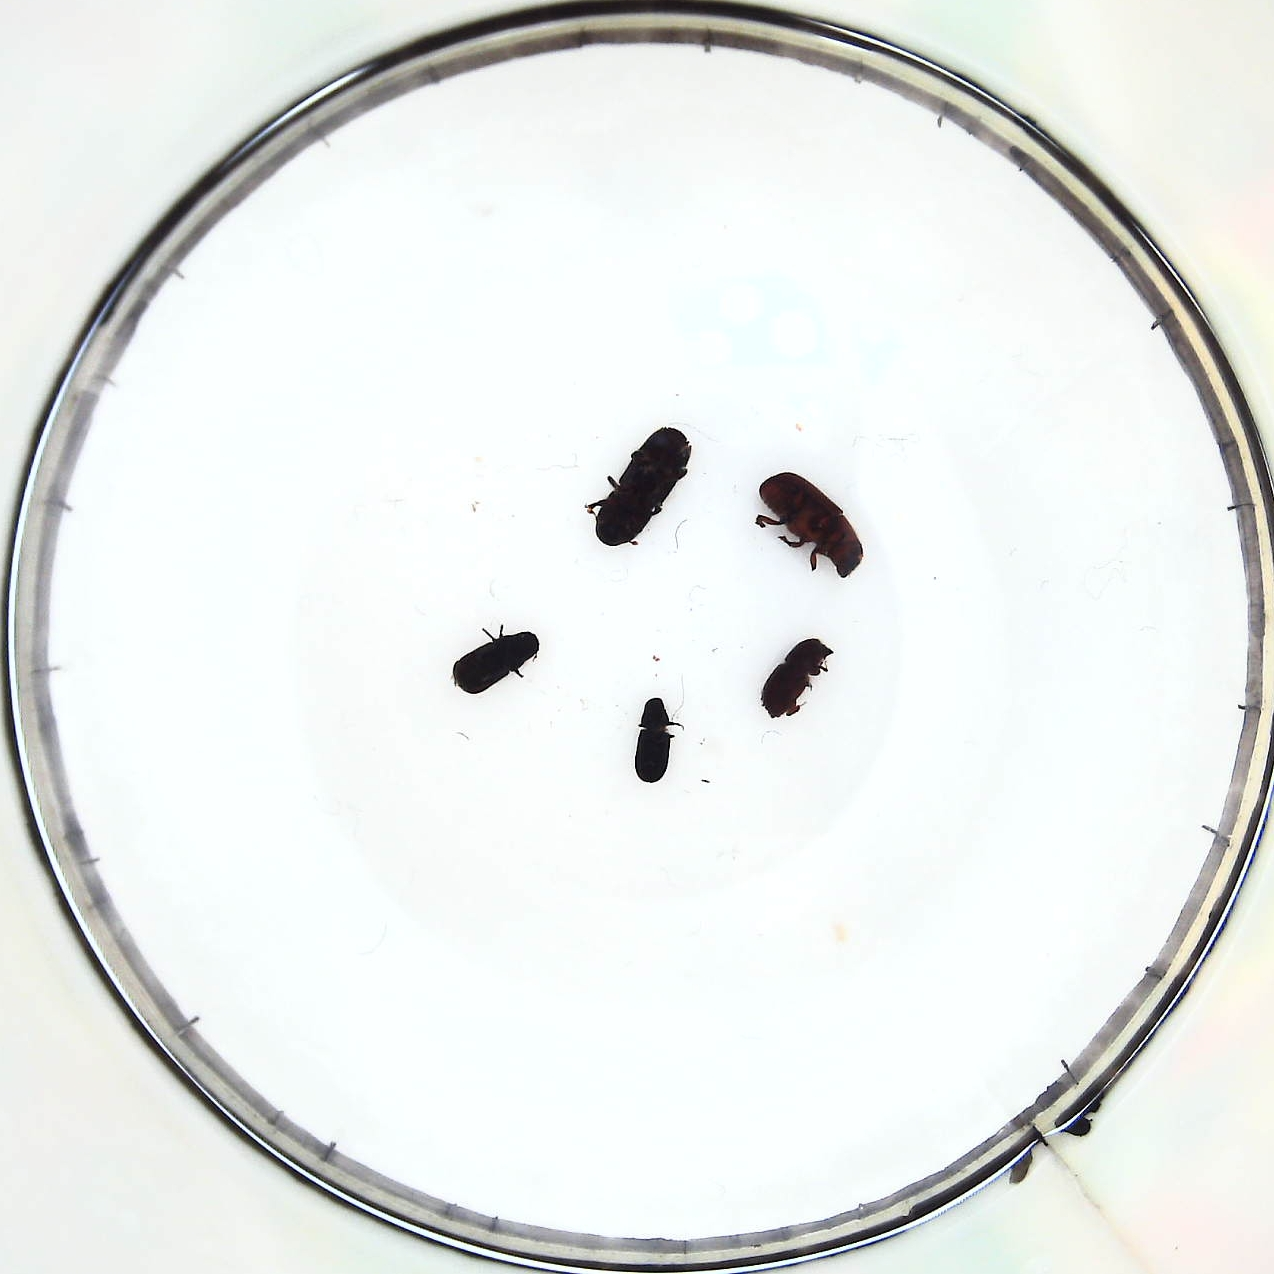Boerner: (584, 422, 693, 549)
Leconte: (756, 473, 866, 582)
Linnaeus: (762, 638, 835, 716)
armandi: (450, 632, 542, 698)
coleoptera: (635, 700, 680, 782)
